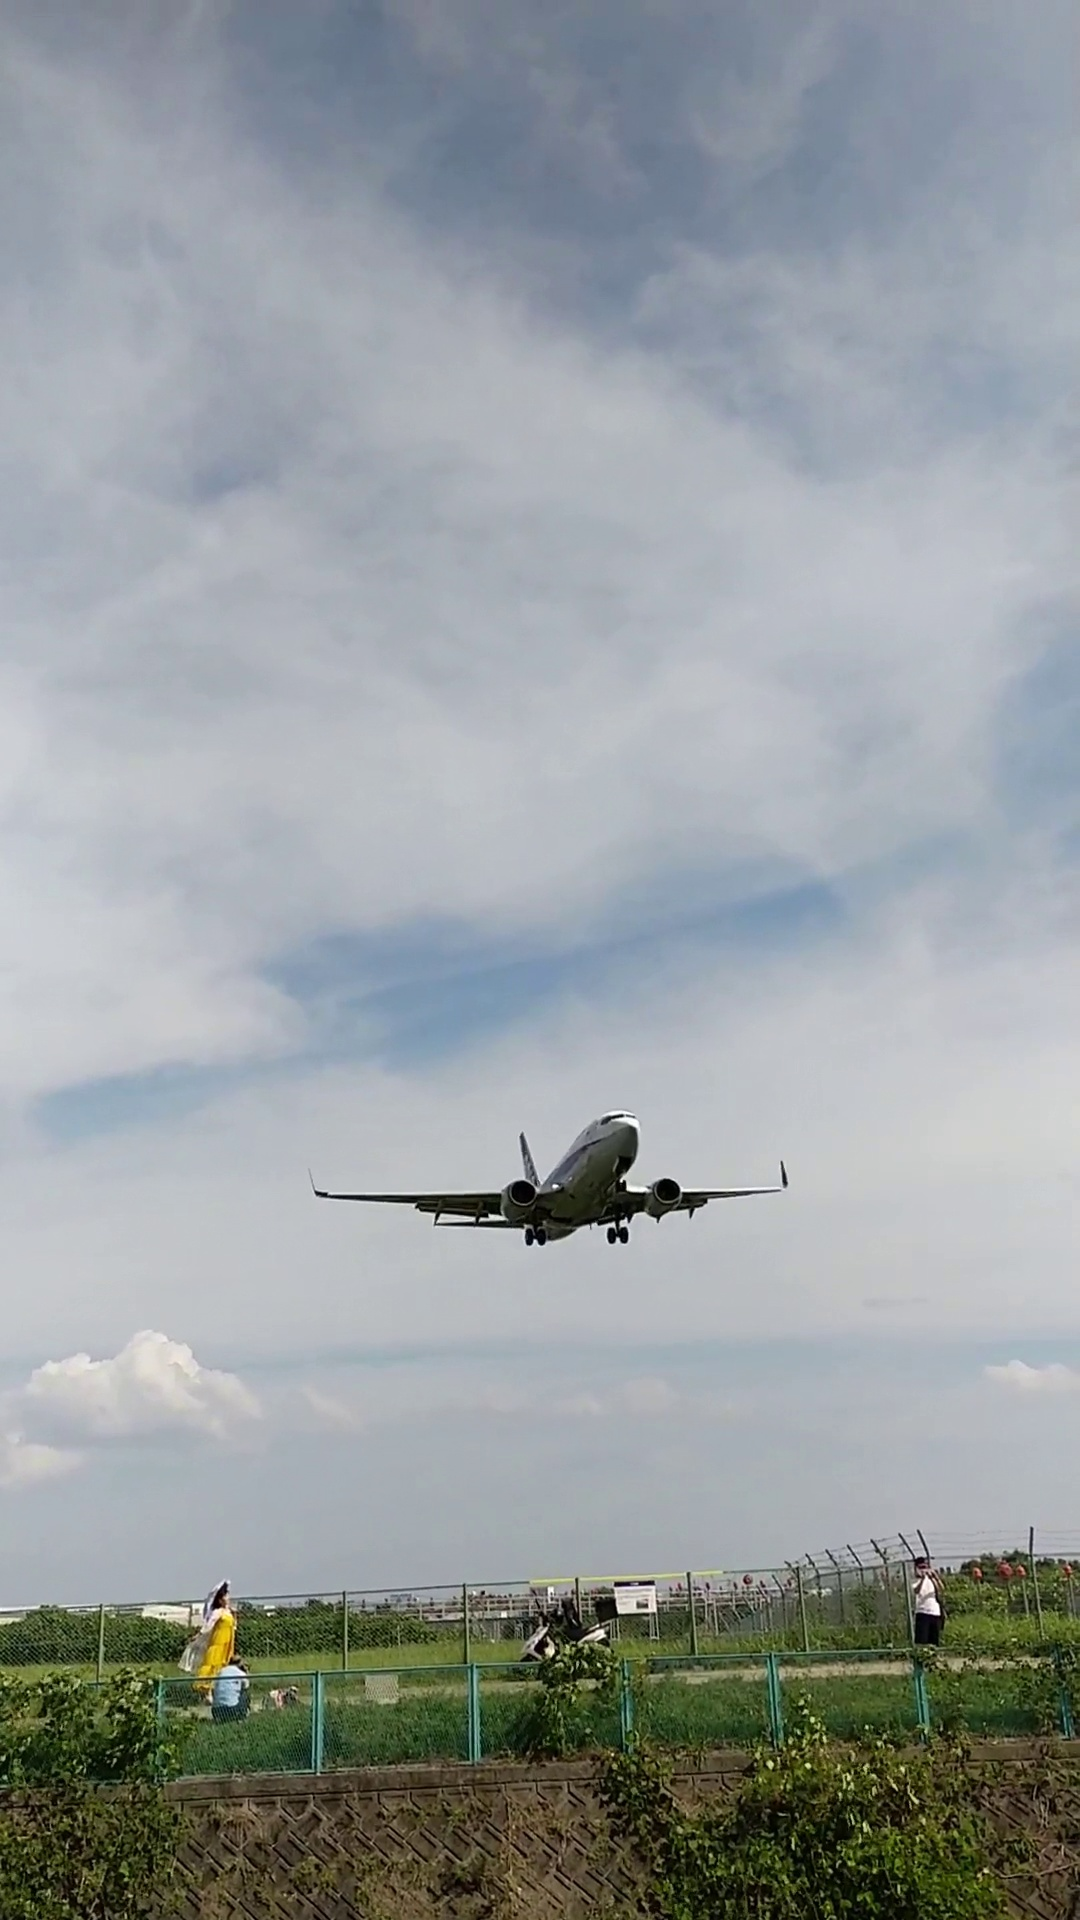plane: (305, 1110, 793, 1254)
